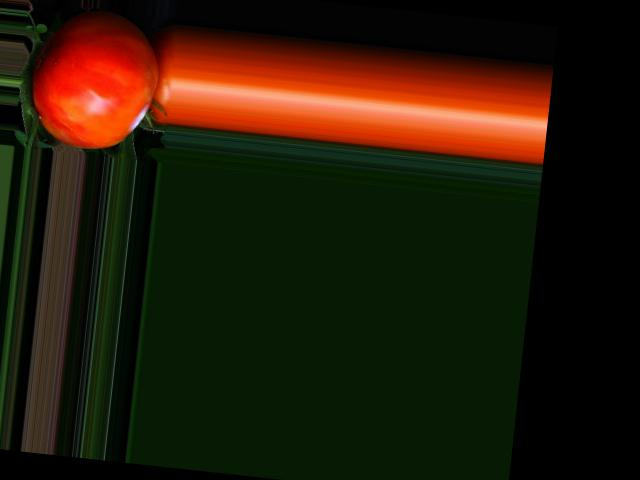tomato: (26, 4, 163, 155)
